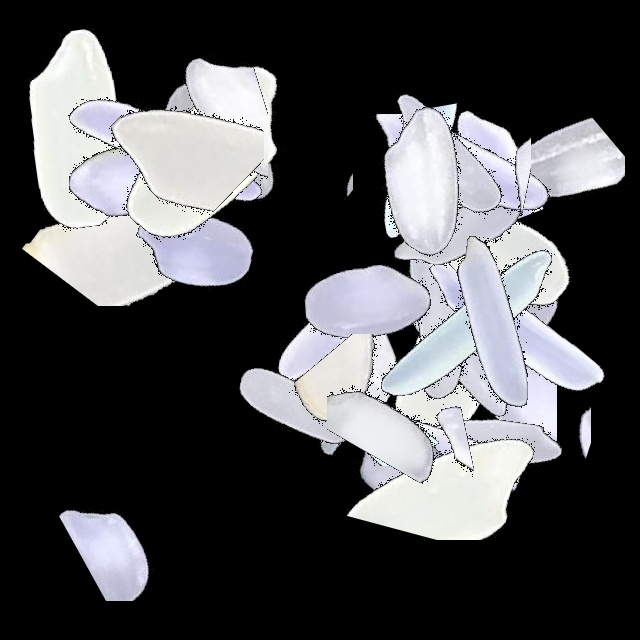Broken: (316, 238, 566, 411), (28, 0, 201, 250), (218, 270, 468, 438), (97, 0, 264, 250), (347, 352, 597, 517), (364, 60, 614, 224), (345, 66, 508, 316), (307, 114, 557, 277), (322, 378, 572, 540), (0, 150, 250, 306), (437, 95, 592, 345), (472, 59, 625, 309), (243, 357, 493, 509), (118, 4, 268, 254), (25, 453, 275, 601), (417, 284, 557, 534), (327, 264, 467, 514), (366, 149, 616, 266), (263, 352, 513, 466), (232, 363, 482, 471), (328, 80, 578, 187), (428, 37, 531, 287), (79, 38, 181, 288), (448, 150, 547, 400), (244, 334, 494, 427), (499, 310, 591, 560), (269, 358, 519, 444), (301, 148, 551, 226), (276, 51, 353, 301), (400, 358, 476, 608)
Full: (329, 230, 579, 480), (223, 263, 473, 513), (235, 236, 485, 486), (379, 189, 629, 439), (365, 317, 615, 567), (336, 232, 586, 482), (310, 194, 560, 444), (390, 202, 640, 452), (241, 175, 491, 425), (182, 280, 432, 530), (95, 21, 345, 271), (69, 125, 319, 375), (0, 53, 250, 303), (38, 27, 288, 277), (334, 102, 584, 352), (89, 30, 339, 280), (340, 200, 590, 450), (369, 197, 619, 447), (322, 30, 572, 280), (300, 56, 550, 306)
